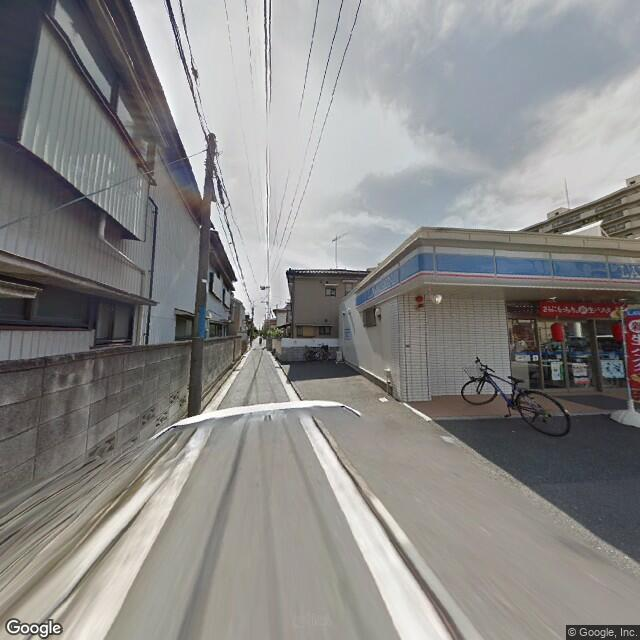lawson: (355, 245, 639, 314)
